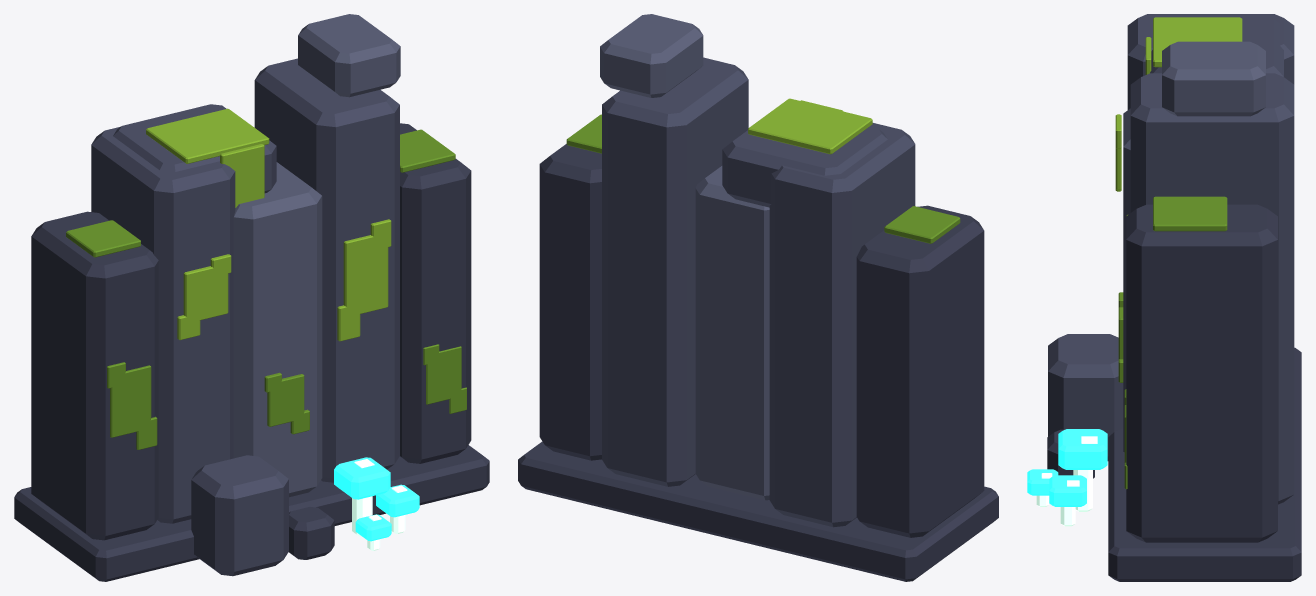
Rendered from Bogheart_RockWall.glb.
3 views of the same model, side by side, from view 1: azimuth 30°, elevation 25°; view 2: azimuth 150°, elevation 25°; view 3: azimuth 270°, elevation 25° (orthographic). The views are drawn at different scales.
Parts seen in each view (by area): view 1: RockWall, RockWall_wall_plinth, RockWall_boulder_front, RockWall_top_block_b, RockWall_moss_top_a, RockWall_moss_front_3, RockWall_top_block_a, RockWall_moss_front_0, RockWall_moss_front_1, RockWall_boulder_small, RockWall_moss_drape, RockWall_wall_mushrooms_a_cap_Glow (+7 smaller); view 2: RockWall, RockWall_wall_plinth, RockWall_top_block_b, RockWall_top_block_a, RockWall_moss_top_a, RockWall_moss_top_c, RockWall_moss_top_b; view 3: RockWall, RockWall_wall_plinth, RockWall_top_block_b, RockWall_boulder_front, RockWall_moss_top_b, RockWall_moss_top_a, RockWall_top_block_a, RockWall_wall_mushrooms_a_cap_Glow, RockWall_wall_mushrooms_b_cap_Glow, RockWall_wall_mushrooms_c_cap_Glow, RockWall_boulder_small, RockWall_wall_mushrooms_a_stem_Glow.
Boxes of the visible parts, x1,y1,x2,y2 form: RockWall: (31,58,471,540); RockWall_wall_plinth: (14,445,489,581); RockWall_boulder_front: (191,455,288,576); RockWall_top_block_b: (298,14,400,97); RockWall_moss_top_a: (146,108,269,163); RockWall_moss_front_3: (343,235,388,316); RockWall_top_block_a: (113,104,276,193); RockWall_moss_front_0: (110,365,151,437); RockWall_moss_front_1: (183,265,228,322); RockWall_boulder_small: (289,507,334,559); RockWall_moss_drape: (220,144,264,207); RockWall_wall_mushrooms_a_cap_Glow: (334,457,390,499); RockWall: (539,57,984,537); RockWall_wall_plinth: (518,441,998,581); RockWall_top_block_b: (600,14,703,97); RockWall_top_block_a: (722,127,887,207); RockWall_moss_top_a: (748,98,872,154); RockWall_moss_top_c: (884,206,960,243); RockWall_moss_top_b: (566,114,601,153); RockWall: (1123,14,1294,542); RockWall_wall_plinth: (1108,347,1301,581); RockWall_top_block_b: (1162,41,1265,116); RockWall_boulder_front: (1048,334,1123,460); RockWall_moss_top_b: (1153,196,1227,231); RockWall_moss_top_a: (1153,17,1242,67); RockWall_top_block_a: (1150,15,1283,76); RockWall_wall_mushrooms_a_cap_Glow: (1058,429,1107,469); RockWall_wall_mushrooms_b_cap_Glow: (1049,475,1086,506); RockWall_wall_mushrooms_c_cap_Glow: (1027,469,1058,495); RockWall_boulder_small: (1047,429,1094,478); RockWall_wall_mushrooms_a_stem_Glow: (1073,470,1092,511).
Bounding box in the file's own units: 3.3 × 3.55 × 1.84.
